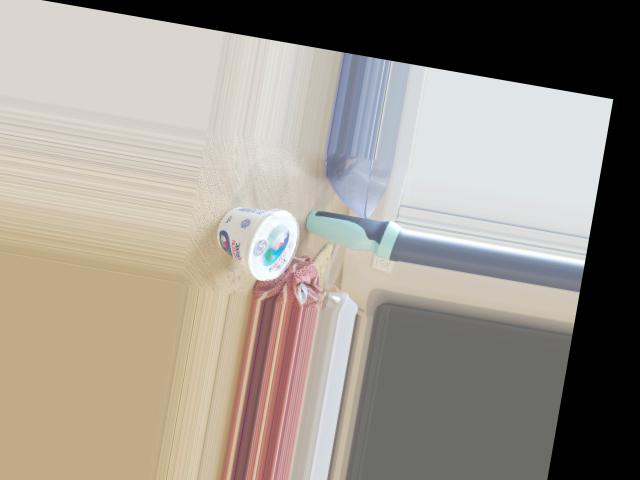cotage: (208, 194, 309, 274)
